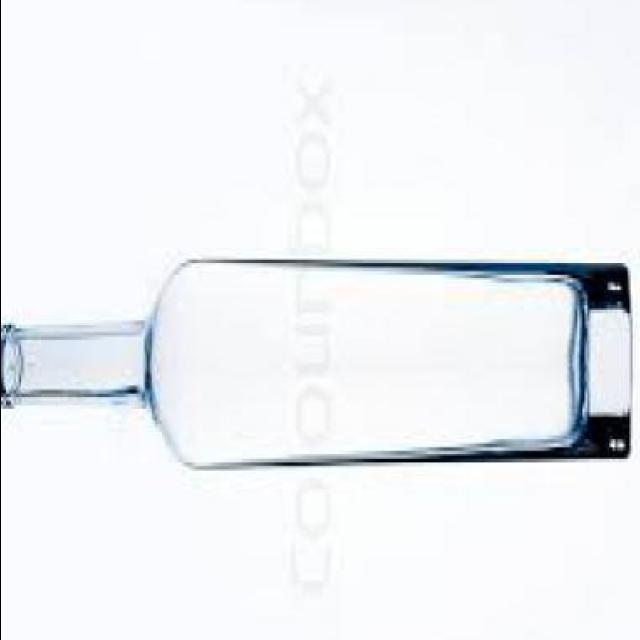kaca: (1, 266, 626, 469)
